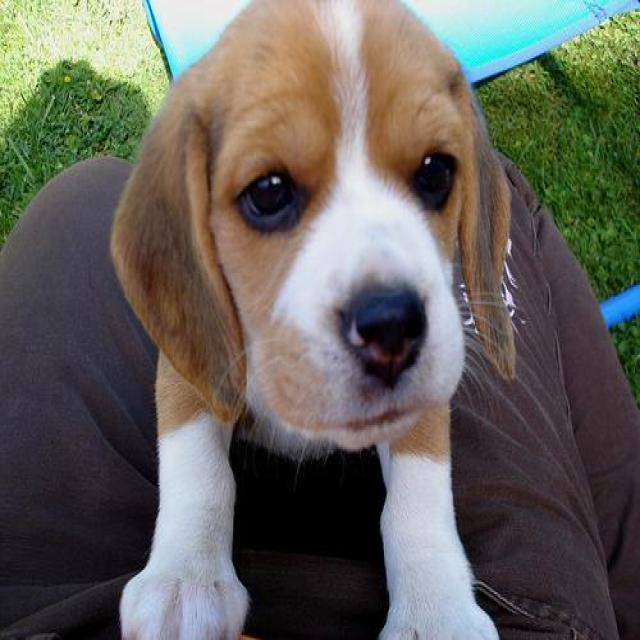beagle: (115, 0, 517, 638)
